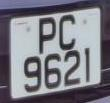1: (81, 45, 94, 87)
2: (62, 47, 83, 90)
6: (42, 51, 65, 93)
9: (21, 52, 46, 95)
C: (56, 12, 79, 53)
P: (35, 13, 58, 57)
